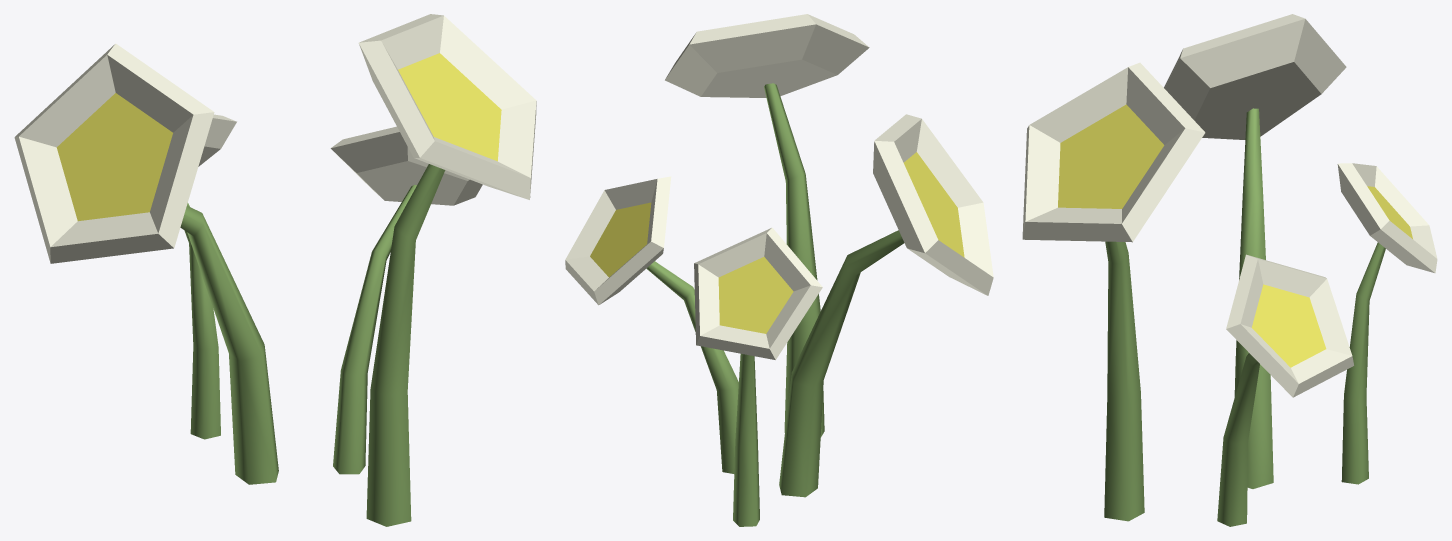
The model's file is Flowers_White.FBX.
3 renders of one model, left to right at view 1: azimuth 30°, elevation 25°; view 2: azimuth 150°, elevation 25°; view 3: azimuth 270°, elevation 25°, orthographic. The views are drawn at different scales.
Parts seen in each view (by area): view 1: Cylinder013, Cylinder017, Cylinder018, Cylinder014, Cylinder020, Cylinder019, Cylinder016, Cylinder015; view 2: Cylinder013, Cylinder015, Cylinder017, Cylinder014, Cylinder019, Cylinder018, Cylinder016, Cylinder020; view 3: Cylinder017, Cylinder013, Cylinder019, Cylinder018, Cylinder014, Cylinder015, Cylinder016, Cylinder020.
Boxes of the visible parts, x1=… form: Cylinder013: x1=14, y1=43, x2=214, y2=263; Cylinder017: x1=358, y1=14, x2=536, y2=199; Cylinder018: x1=366, y1=164, x2=445, y2=526; Cylinder014: x1=180, y1=205, x2=278, y2=484; Cylinder020: x1=333, y1=184, x2=416, y2=474; Cylinder019: x1=330, y1=126, x2=482, y2=205; Cylinder016: x1=184, y1=203, x2=220, y2=439; Cylinder015: x1=198, y1=114, x2=236, y2=166; Cylinder013: x1=873, y1=114, x2=993, y2=295; Cylinder015: x1=694, y1=227, x2=822, y2=359; Cylinder017: x1=665, y1=14, x2=869, y2=97; Cylinder014: x1=779, y1=230, x2=904, y2=497; Cylinder019: x1=565, y1=176, x2=671, y2=305; Cylinder018: x1=764, y1=83, x2=824, y2=437; Cylinder016: x1=733, y1=353, x2=759, y2=526; Cylinder020: x1=646, y1=261, x2=738, y2=473; Cylinder017: x1=1022, y1=62, x2=1205, y2=242; Cylinder013: x1=1164, y1=14, x2=1346, y2=139; Cylinder019: x1=1226, y1=254, x2=1353, y2=397; Cylinder018: x1=1104, y1=241, x2=1144, y2=521; Cylinder014: x1=1234, y1=108, x2=1273, y2=488; Cylinder015: x1=1337, y1=163, x2=1437, y2=273; Cylinder016: x1=1341, y1=242, x2=1385, y2=484; Cylinder020: x1=1217, y1=353, x2=1259, y2=526.
Size of the model in its own units: 3.53 by 3.54 by 3.01.
